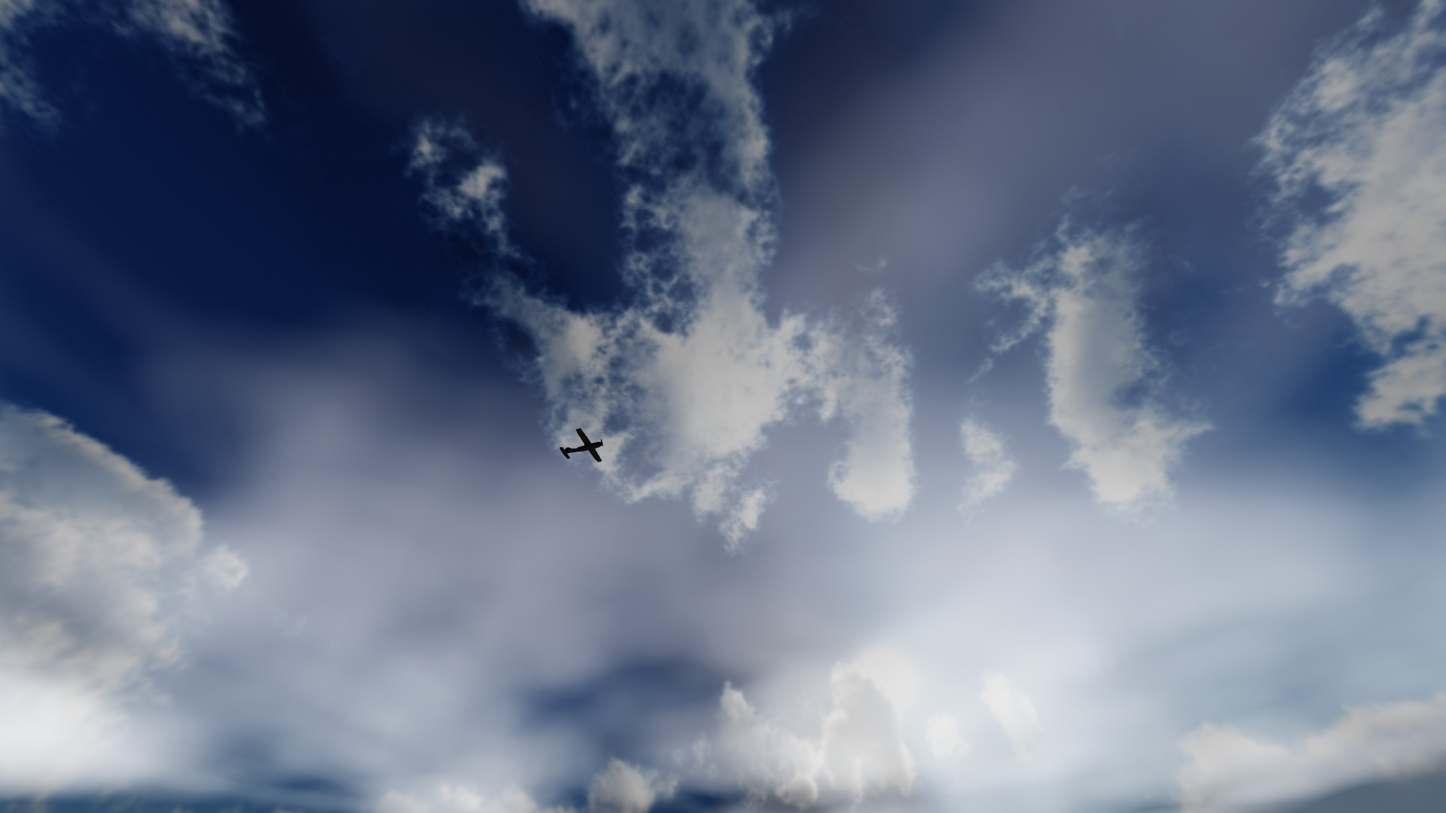drone_other: (560, 428, 603, 462)
